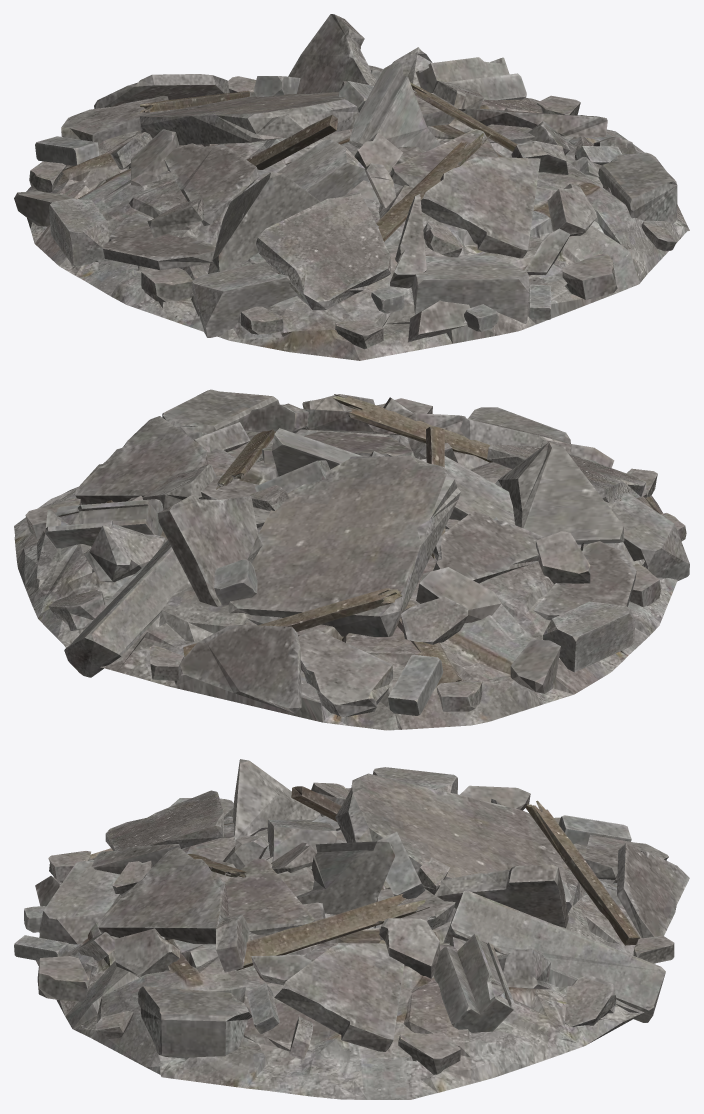
File: debris_pile_a.glb
The picture shows the model from 3 angles, top to bottom: view 1: azimuth 30°, elevation 25°; view 2: azimuth 150°, elevation 25°; view 3: azimuth 270°, elevation 25°; orthographic projection. The views are drawn at different scales.
Parts seen in each view (by area): view 1: debris_pile_a_LOD0; view 2: debris_pile_a_LOD0; view 3: debris_pile_a_LOD0.
Part boxes in pixels (x1,y1,x2,y2): debris_pile_a_LOD0: [14, 14, 689, 360]; debris_pile_a_LOD0: [14, 389, 689, 730]; debris_pile_a_LOD0: [14, 759, 689, 1099].
Size of the model in its own units: 1.19 by 0.3071 by 1.19.
Materials: 2 (2 with a texture image).
